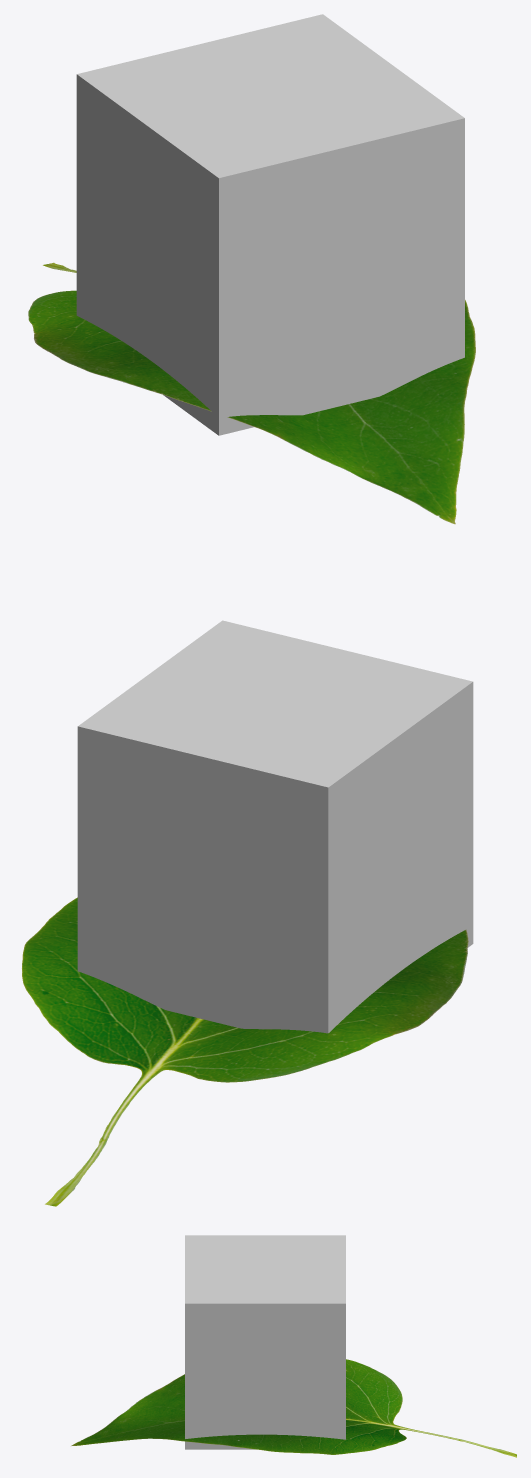
The model's file is leaf.glb.
3 views of the same model, one above another, from view 1: azimuth 30°, elevation 25°; view 2: azimuth 150°, elevation 25°; view 3: azimuth 270°, elevation 25° (orthographic). The views are drawn at different scales.
Parts seen in each view (by area): view 1: placeholder, Leaf; view 2: placeholder, Leaf; view 3: placeholder, Leaf.
Boxes of the visible parts, x1,y1,x2,y2 form: placeholder: (76,14,464,435); Leaf: (28,262,475,524); placeholder: (77,620,473,1033); Leaf: (22,897,468,1206); placeholder: (185,1235,345,1449); Leaf: (71,1359,516,1457).
Bounding box in the file's own units: 1.81 × 1.47 × 3.53.
2 materials, 1 textured.
